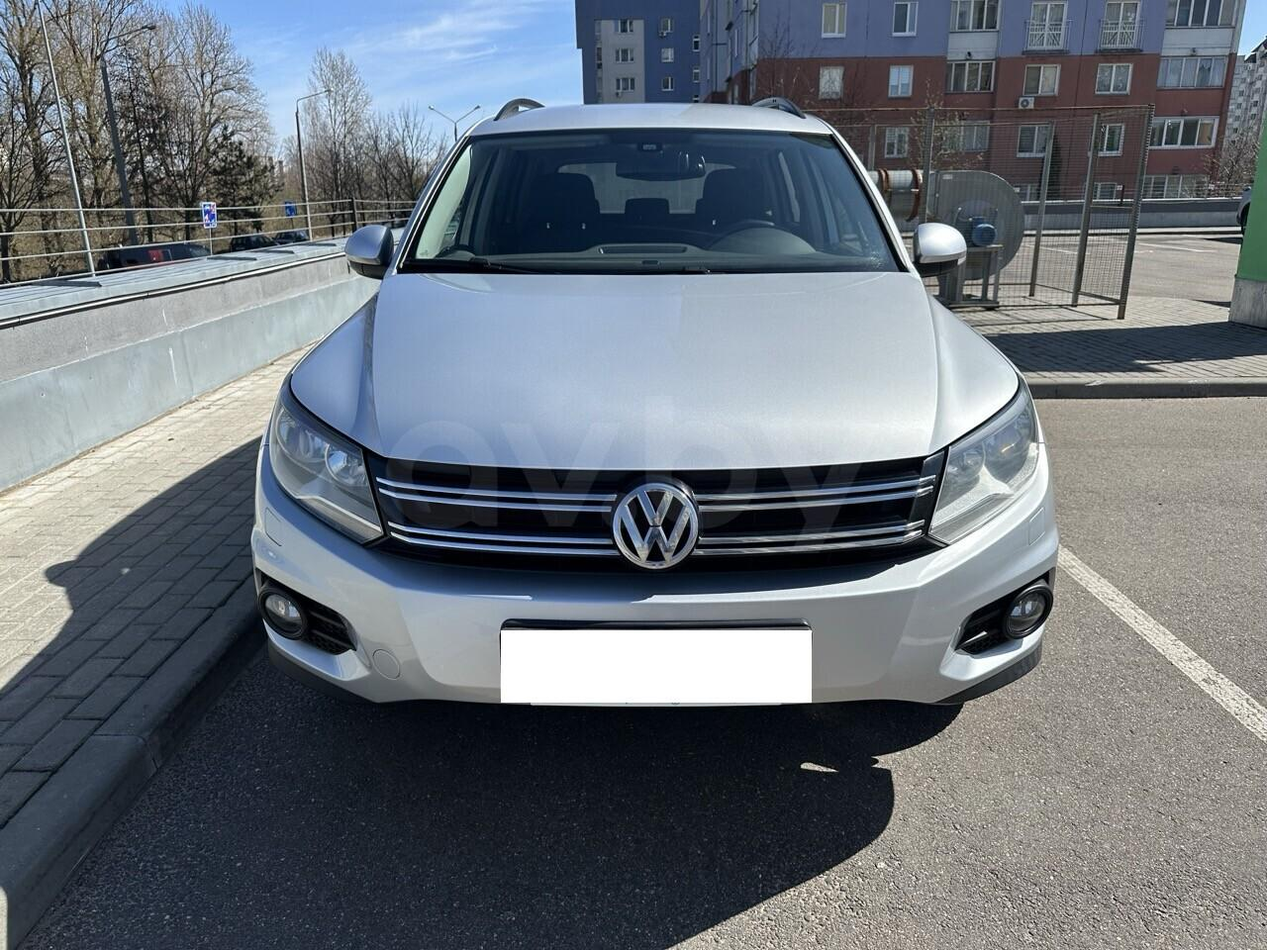Tiguan_2011-2018: (252, 98, 1062, 722)
